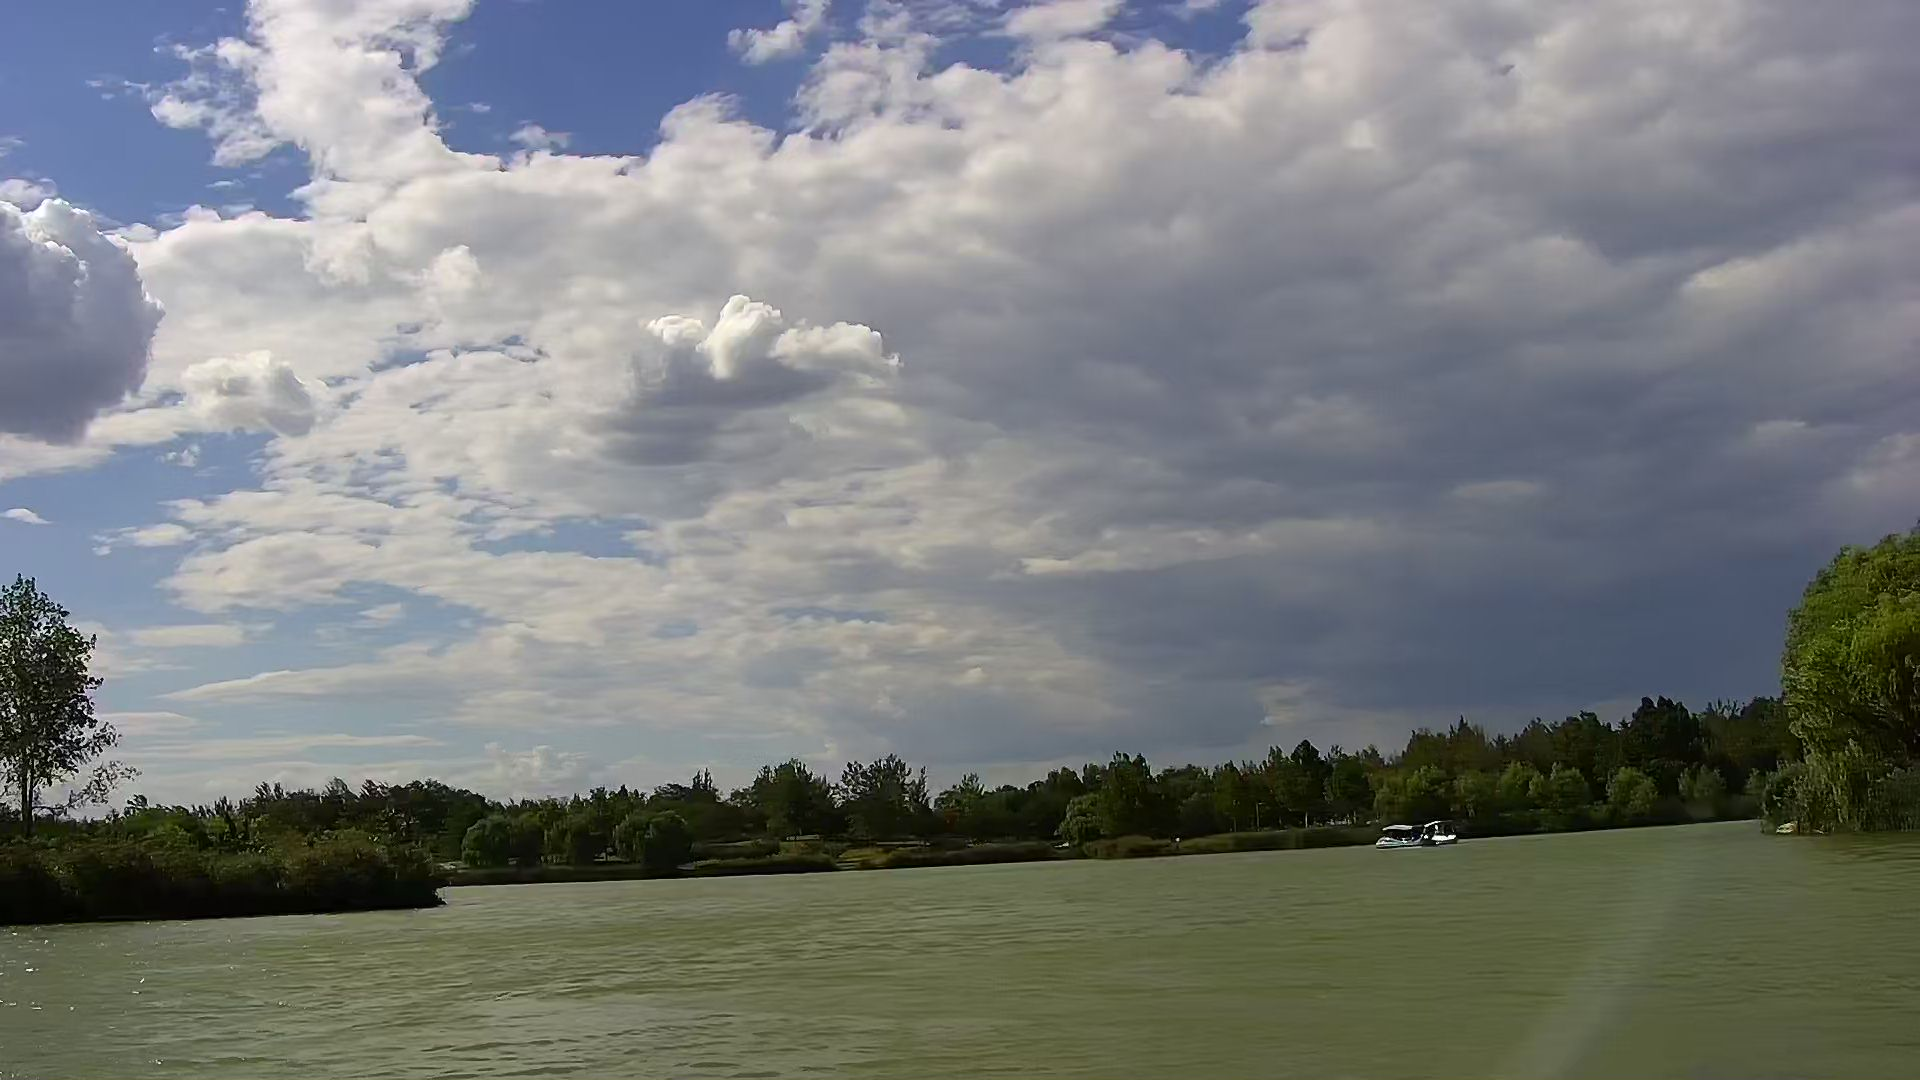boat: (1408, 820, 1461, 849), (1373, 823, 1425, 851)
rock: (1774, 820, 1803, 836)
